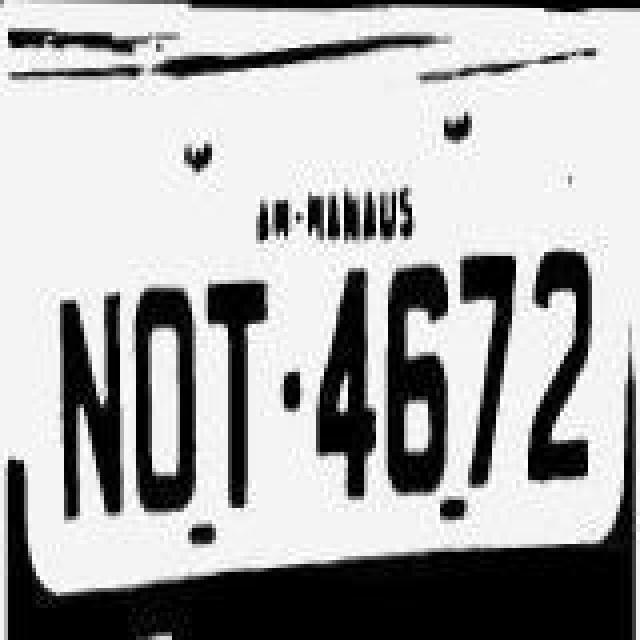2: (524, 244, 596, 488)
4: (308, 258, 380, 502)
6: (380, 256, 452, 496)
7: (454, 244, 522, 488)
N: (44, 280, 132, 532)
O: (122, 276, 198, 520)
T: (202, 276, 270, 512)
